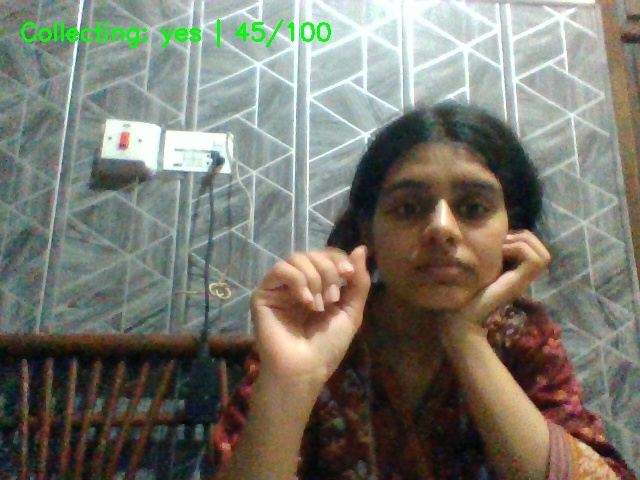yes: (243, 235, 381, 419)
